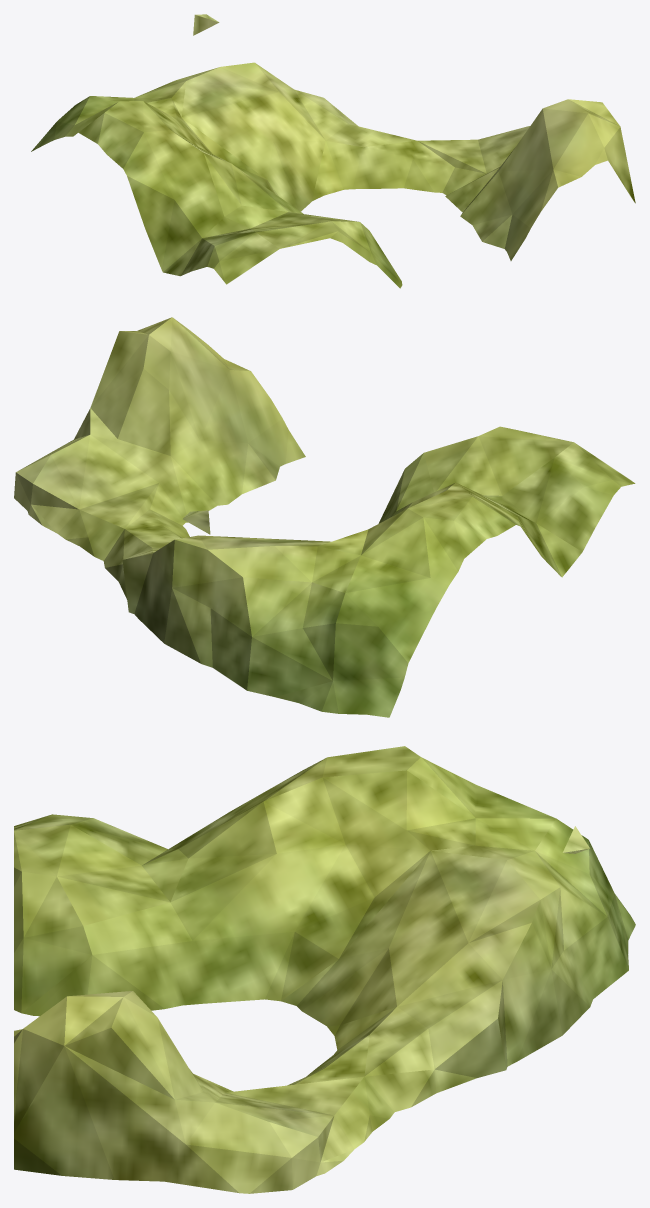
3 renders of one model, top to bottom at view 1: azimuth 30°, elevation 25°; view 2: azimuth 150°, elevation 25°; view 3: azimuth 270°, elevation 25°, orthographic. The views are drawn at different scales.
Bounding box in the file's own units: 1.23 × 0.3414 × 1.07.
Materials: 1 (1 with a texture image).
